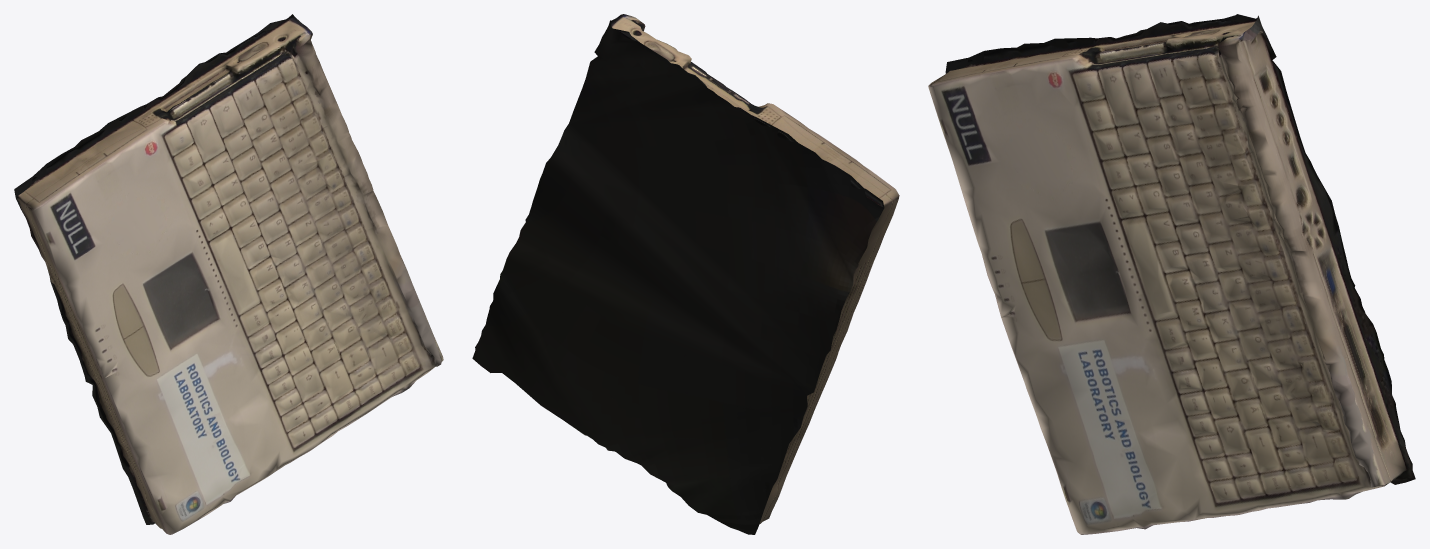
The model's file is laptop_bottom.dae.
The picture shows the model from 3 angles, left to right: view 1: azimuth 30°, elevation 25°; view 2: azimuth 150°, elevation 25°; view 3: azimuth 330°, elevation 25°; orthographic projection. The views are drawn at different scales.
Parts seen in each view (by area): view 1: laptop_bottom; view 2: laptop_bottom; view 3: laptop_bottom.
Boxes of the visible parts, bbox=[...] form: laptop_bottom: bbox=[14, 14, 443, 534]; laptop_bottom: bbox=[472, 14, 899, 534]; laptop_bottom: bbox=[928, 14, 1415, 534].
Size of the model in its own units: 0.329 by 0.0422 by 0.3639.
Materials: 1 (1 with a texture image).
